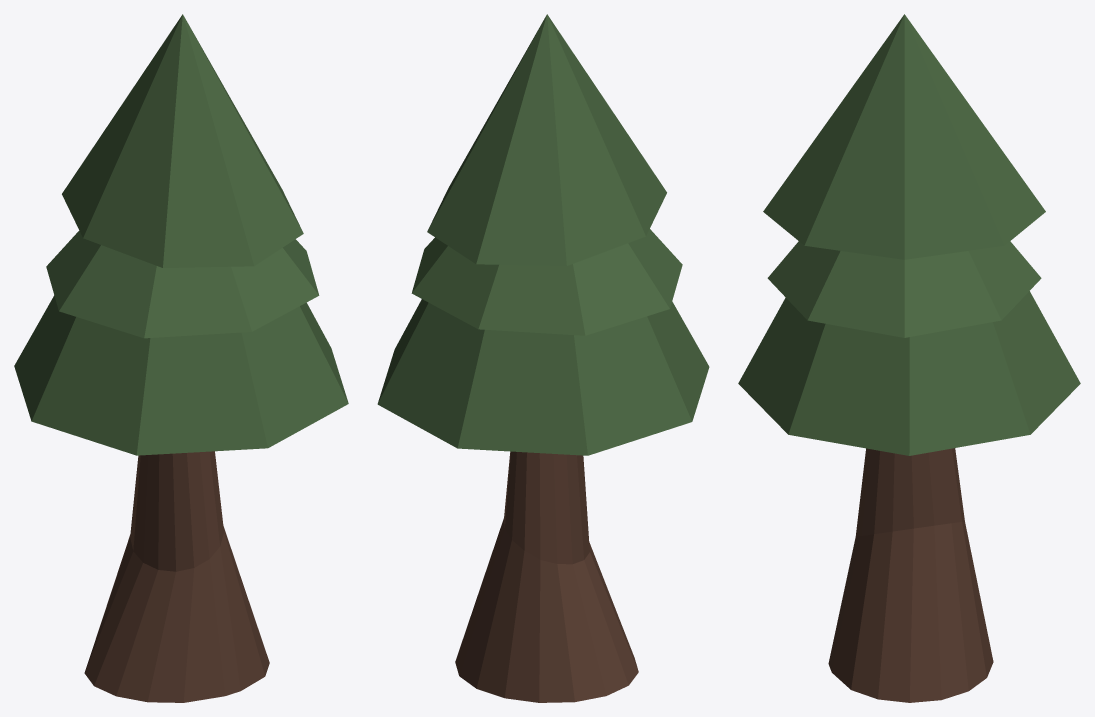
The model's file is tree.fbx.
The picture shows the model from 3 angles, left to right: view 1: azimuth 30°, elevation 25°; view 2: azimuth 150°, elevation 25°; view 3: azimuth 270°, elevation 25°; orthographic projection.
Visible parts, largest first — view 1: Cone.001, Cone, Cylinder; view 2: Cone.001, Cone, Cylinder; view 3: Cone.001, Cone, Cylinder.
Part boxes in pixels (x1=…): Cone.001: x1=14, y1=230, x2=348, y2=455; Cone: x1=62, y1=14, x2=303, y2=267; Cylinder: x1=84, y1=451, x2=269, y2=702; Cone.001: x1=377, y1=229, x2=709, y2=455; Cone: x1=427, y1=14, x2=666, y2=265; Cylinder: x1=455, y1=451, x2=638, y2=702; Cone.001: x1=738, y1=241, x2=1080, y2=455; Cone: x1=763, y1=14, x2=1045, y2=259; Cylinder: x1=828, y1=448, x2=993, y2=702.
Bounding box in the file's own units: 200 × 419 × 200.
